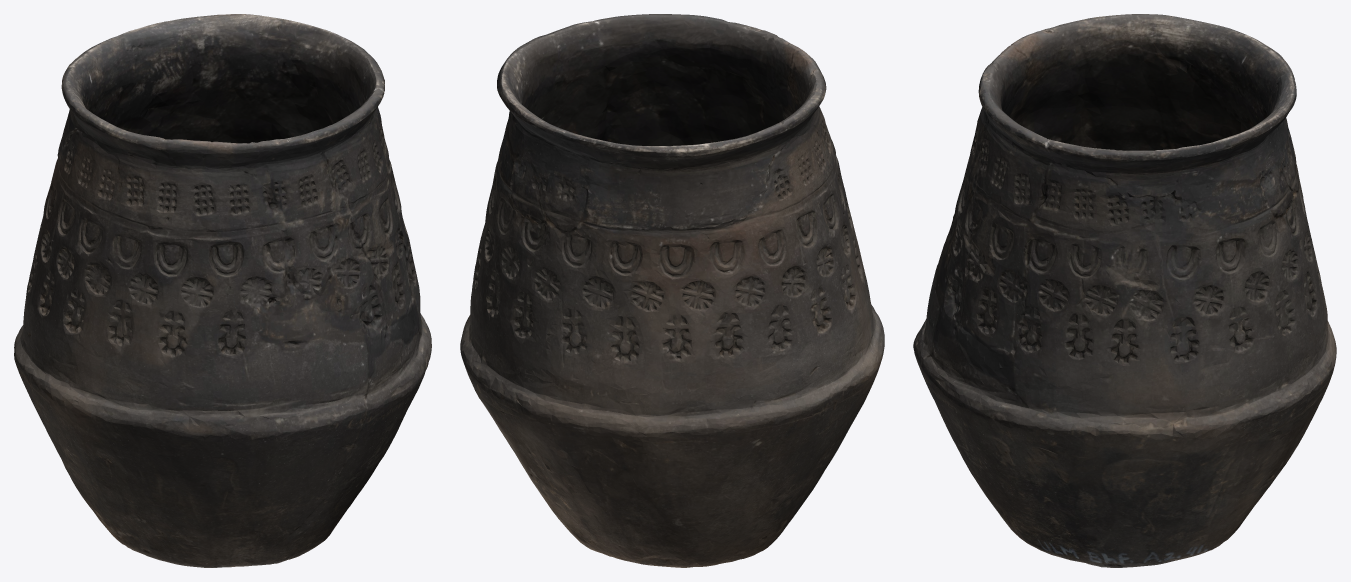
The model's file is VaseMittel_45kTris_2x2kTex.gltf.
3 views of the same model, side by side, from view 1: azimuth 30°, elevation 25°; view 2: azimuth 150°, elevation 25°; view 3: azimuth 270°, elevation 25° (orthographic).
Visible parts, largest first — view 1: VaseMittel_45kTris_2x2kTex; view 2: VaseMittel_45kTris_2x2kTex; view 3: VaseMittel_45kTris_2x2kTex.
Boxes of the visible parts, bbox=[...] form: VaseMittel_45kTris_2x2kTex: bbox=[14, 14, 431, 567]; VaseMittel_45kTris_2x2kTex: bbox=[460, 14, 884, 567]; VaseMittel_45kTris_2x2kTex: bbox=[913, 14, 1336, 567].
Bounding box in the file's own units: 12.9 × 15.03 × 12.82.
Materials: 2 (2 with a texture image).
